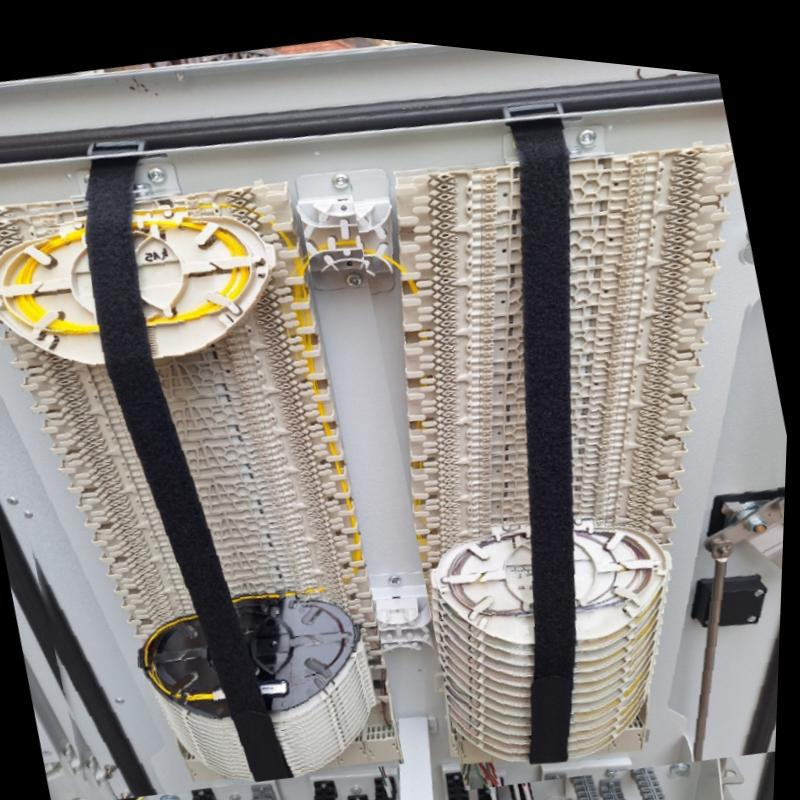NT-Gehause: (0, 36, 790, 800)
Spleiskassetten: (0, 173, 390, 780), (386, 126, 727, 765)
